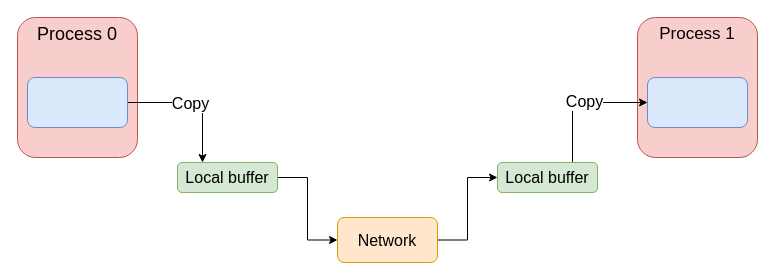
Some shapes in this 775 by 280 pixel diagram are drawn without their labels. Each missing label, with the centre of its shape:
"Receive(data)" goes at pixel 697 102.
"Send(data)" goes at pixel 77 102.
